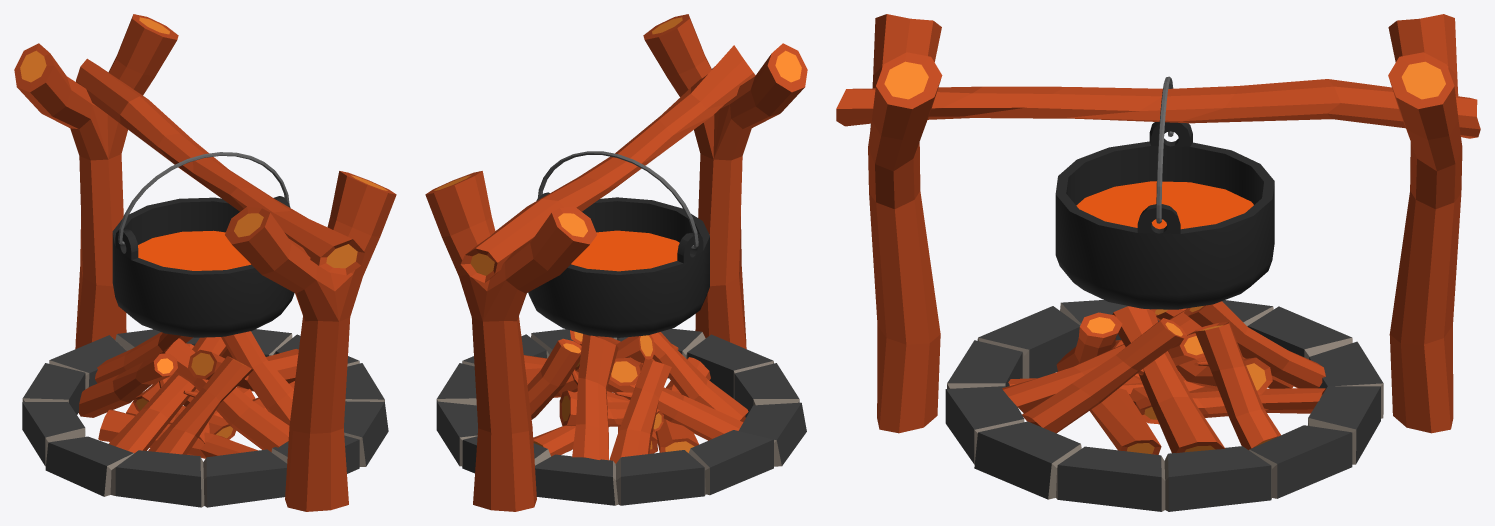
The model's file is low_poly_casserole_in_fire.glb.
3 views of the same model, side by side, from view 1: azimuth 30°, elevation 25°; view 2: azimuth 150°, elevation 25°; view 3: azimuth 270°, elevation 25° (orthographic). The views are drawn at different scales.
Parts seen in each view (by area): view 1: Item16; view 2: Item16; view 3: Item16.
Part boxes in pixels (left/top/right/bottom): Item16: left=14, top=14, right=396, bottom=511; Item16: left=425, top=14, right=807, bottom=511; Item16: left=836, top=14, right=1480, bottom=511.
Size of what is drawn, in the model's own units: 0.6158 by 0.6164 by 0.8978.
1 material, 1 textured.
